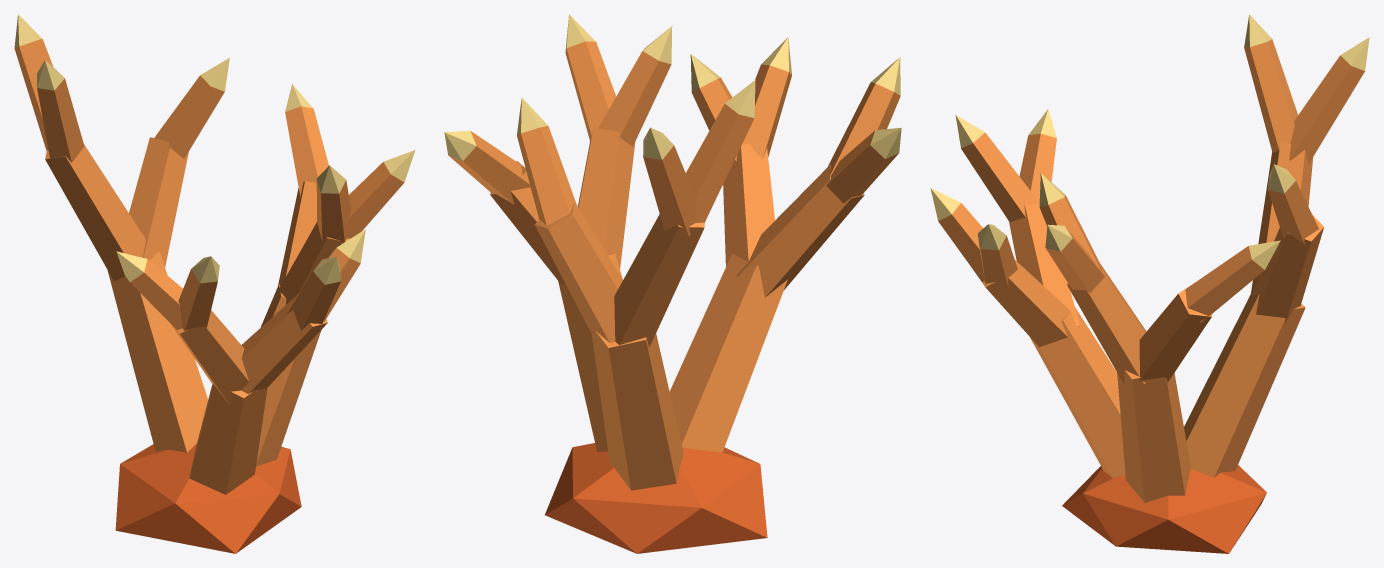
The model's file is coral_branch_orange.fbx.
The picture shows the model from 3 angles, left to right: view 1: azimuth 30°, elevation 25°; view 2: azimuth 150°, elevation 25°; view 3: azimuth 270°, elevation 25°; orthographic projection. The views are drawn at different scales.
Visible parts, largest first — view 1: coral_branch_orange; view 2: coral_branch_orange; view 3: coral_branch_orange.
Part boxes in pixels (left/top/right/bottom): coral_branch_orange: left=14, top=14, right=415, bottom=553; coral_branch_orange: left=444, top=14, right=901, bottom=553; coral_branch_orange: left=930, top=14, right=1369, bottom=553.
Size of the model in its own units: 407 by 609 by 520.
1 material, 1 textured.
